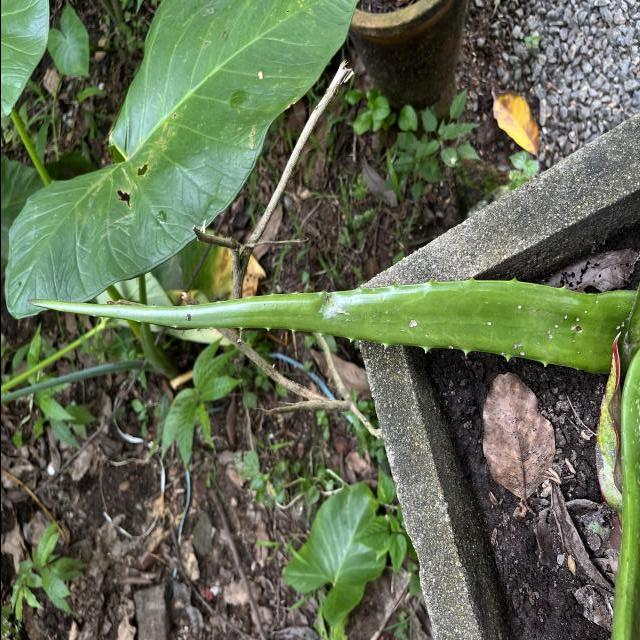Aloe vera: (26, 267, 625, 385)
